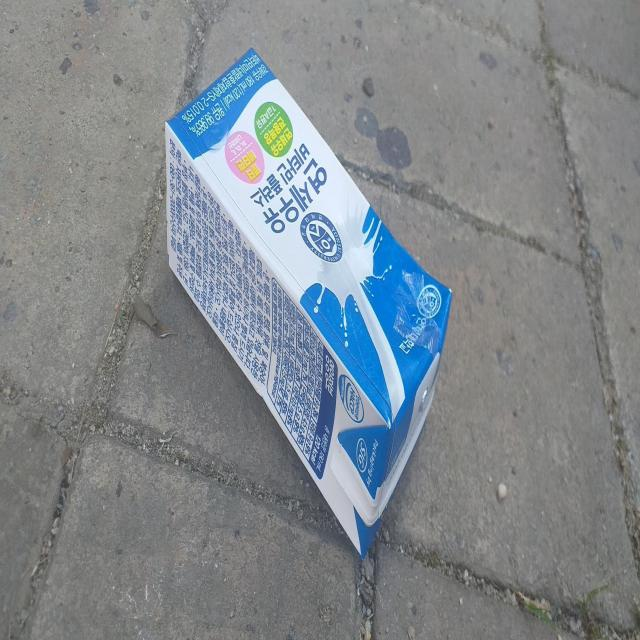paperpack: (165, 47, 451, 556)
